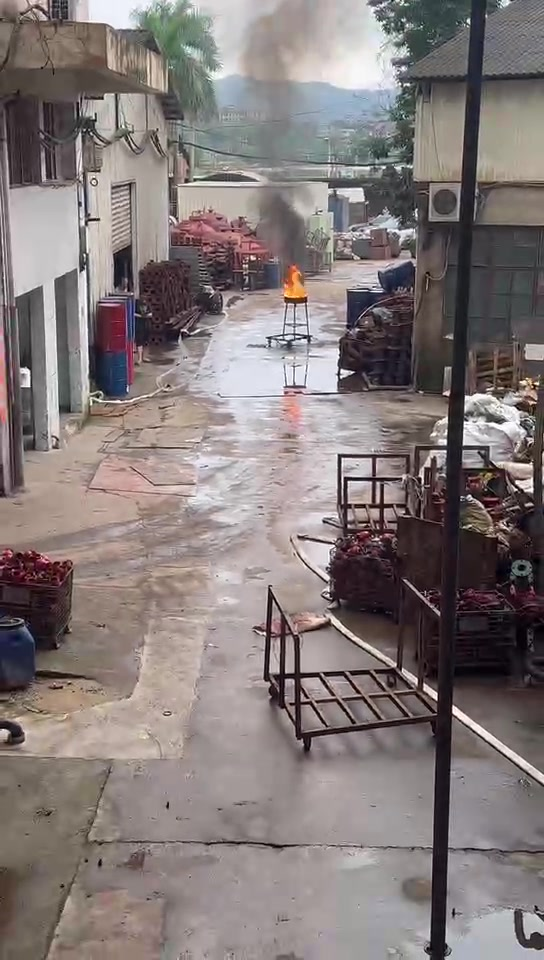fire: (281, 264, 305, 297)
